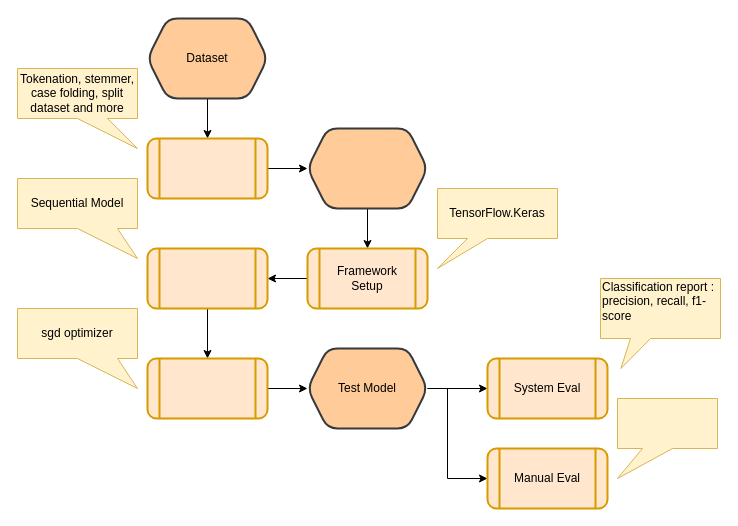
Image size: 738x526. Some labels were removed from this diagram. Each missing label, with the centre of its shape:
"Build Model" belongs at pixel 367 168.
"Chat with Chatbot" belongs at pixel 667 438.
"Data Preprocesing" belongs at pixel 207 168.
"Model Building" belongs at pixel 207 278.
"Train" belongs at pixel 207 388.
